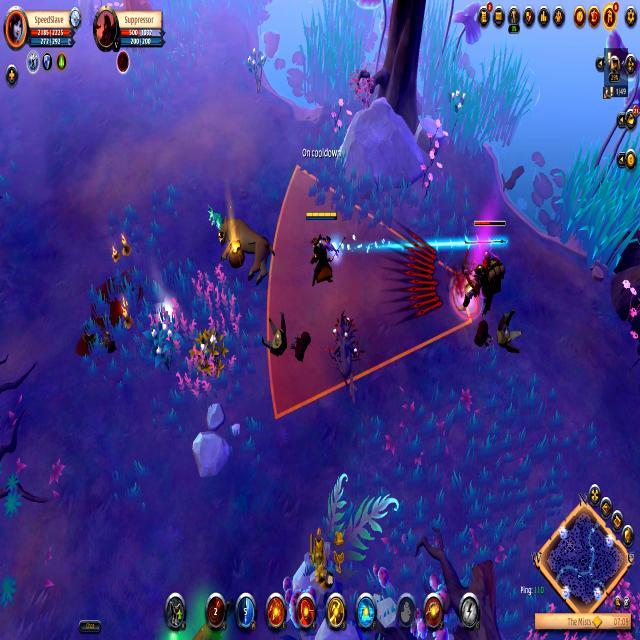hide: (144, 294, 182, 374), (194, 322, 230, 382), (242, 43, 271, 100)
mob: (216, 208, 273, 286), (326, 303, 368, 398)
ore: (465, 211, 510, 310)
red: (303, 207, 342, 291)
silver: (267, 157, 478, 418)
